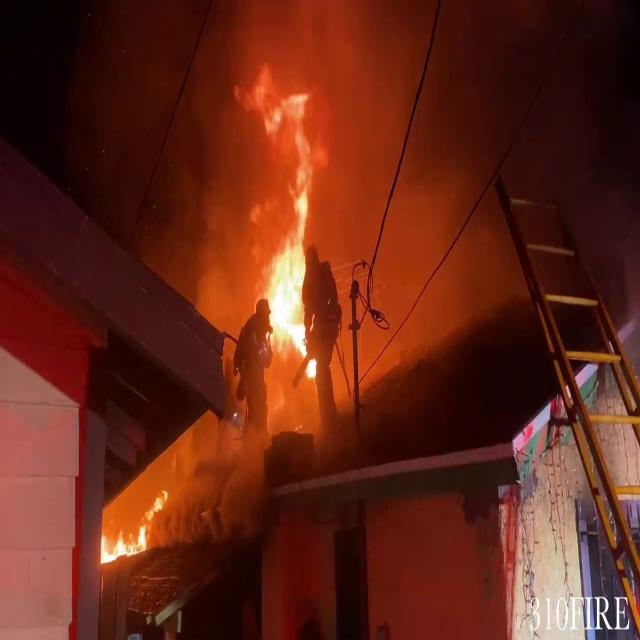Fire: (234, 74, 326, 391), (97, 494, 159, 569)
